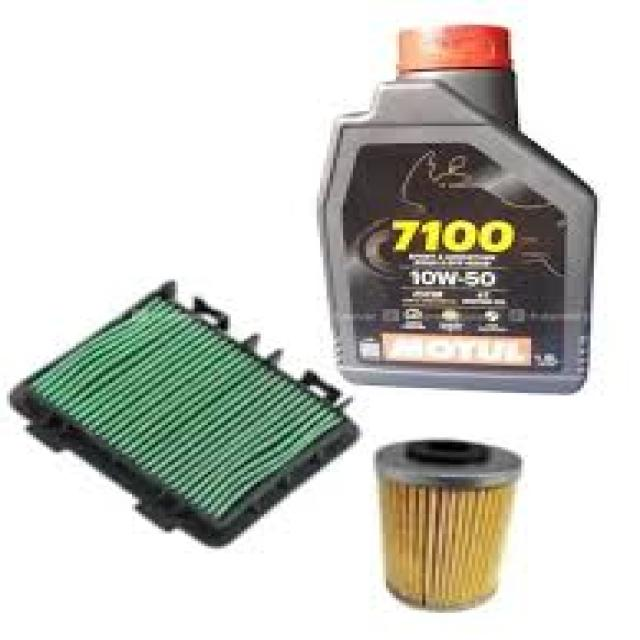air_filter: (1, 279, 362, 553)
motor_oil: (332, 20, 600, 393)
oil_filter: (373, 430, 533, 613)
